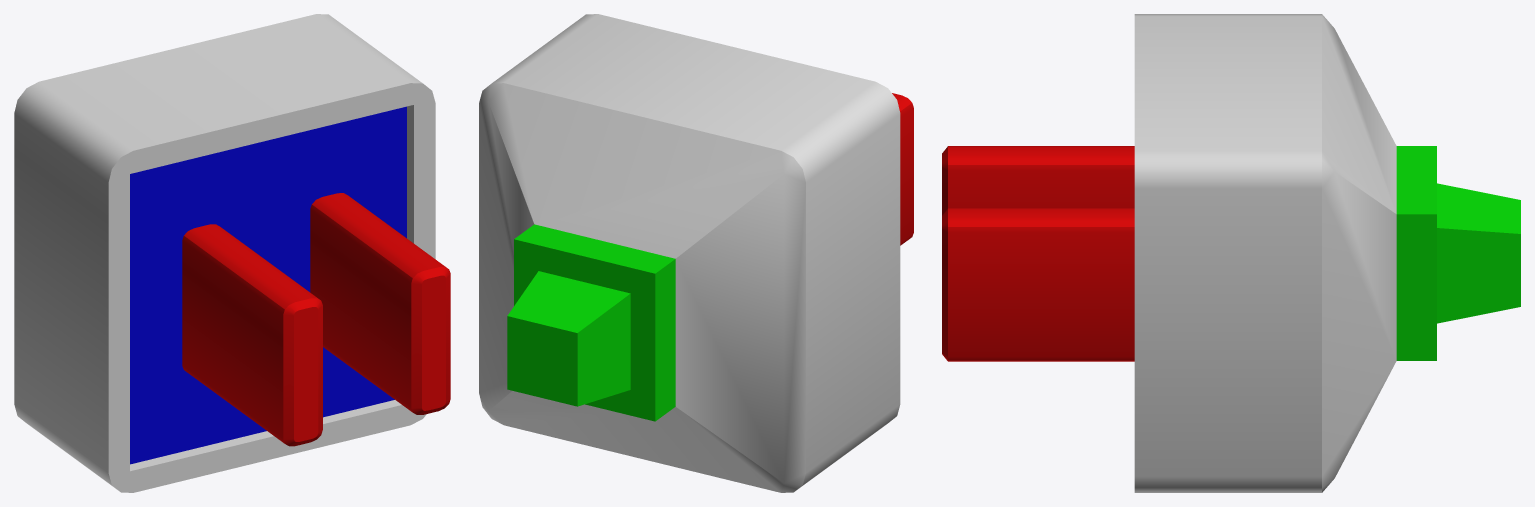
File: Plug.fbx
3 renders of one model, left to right at view 1: azimuth 30°, elevation 25°; view 2: azimuth 150°, elevation 25°; view 3: azimuth 270°, elevation 25°, orthographic.
Parts seen in each view (by area): view 1: Plug; view 2: Plug; view 3: Plug.
Boxes of the visible parts, box(x1,y1,x2,y2) form: Plug: box(14, 14, 450, 492); Plug: box(479, 14, 913, 492); Plug: box(942, 14, 1520, 492).
Size of the model in its own units: 32.13 by 32.13 by 49.63.
